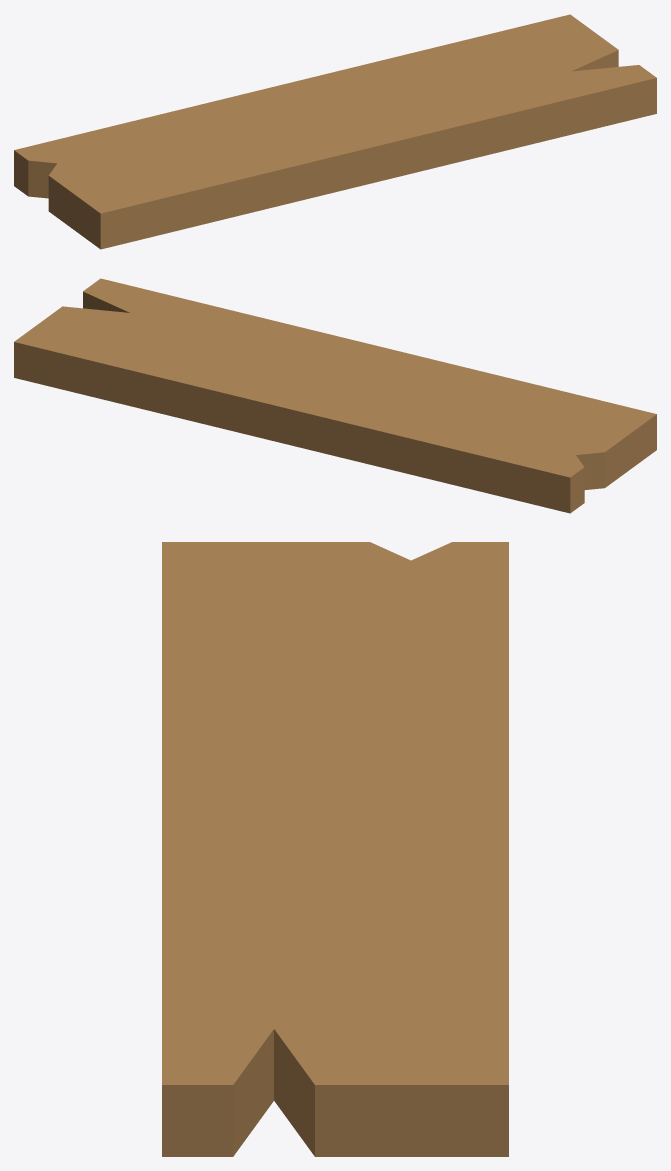
File: SRA_Wood_Plank_Single_02.glb
The picture shows the model from 3 angles, top to bottom: view 1: azimuth 30°, elevation 25°; view 2: azimuth 150°, elevation 25°; view 3: azimuth 270°, elevation 25°; orthographic projection. The views are drawn at different scales.
Parts seen in each view (by area): view 1: Wood_Plank_Single_02; view 2: Wood_Plank_Single_02; view 3: Wood_Plank_Single_02.
Part boxes in pixels (left/top/right/bottom): Wood_Plank_Single_02: left=14, top=14, right=656, bottom=249; Wood_Plank_Single_02: left=14, top=278, right=656, bottom=513; Wood_Plank_Single_02: left=162, top=542, right=508, bottom=1156.
Size of the model in its own units: 0.9145 by 0.0565 by 0.2469.
Materials: 1 (1 with a texture image).
